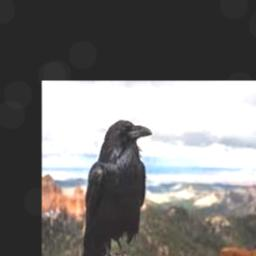Crow: (80, 119, 152, 256)
